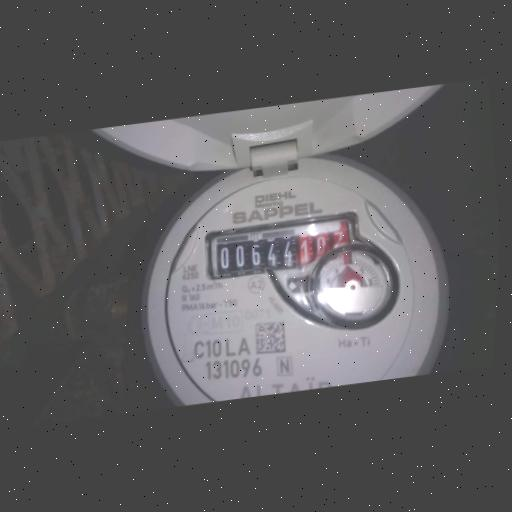0: (213, 242, 235, 275), (230, 240, 252, 272), (313, 229, 333, 264)
1: (295, 231, 319, 266)
4: (261, 237, 285, 270), (278, 235, 301, 269)
6: (247, 239, 267, 272)
7: (325, 221, 353, 267)
border_water_meter_number: (201, 212, 364, 286)
